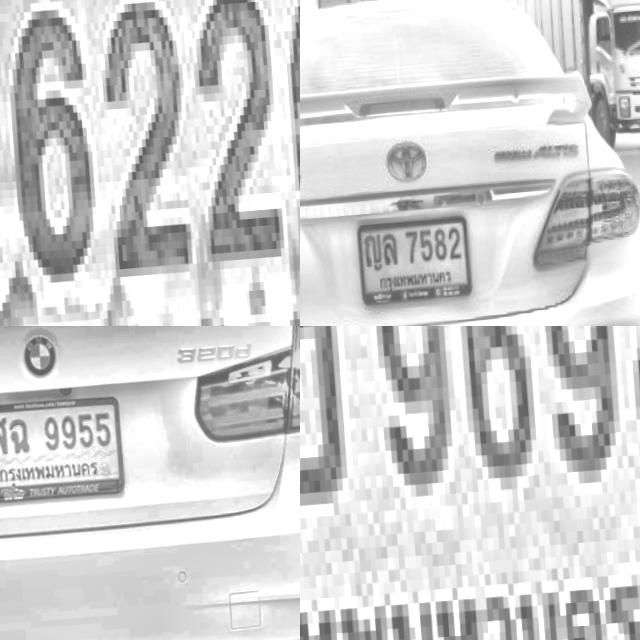license-plate: (300, 326, 640, 640), (0, 0, 300, 326), (0, 391, 128, 507), (352, 207, 477, 313)
